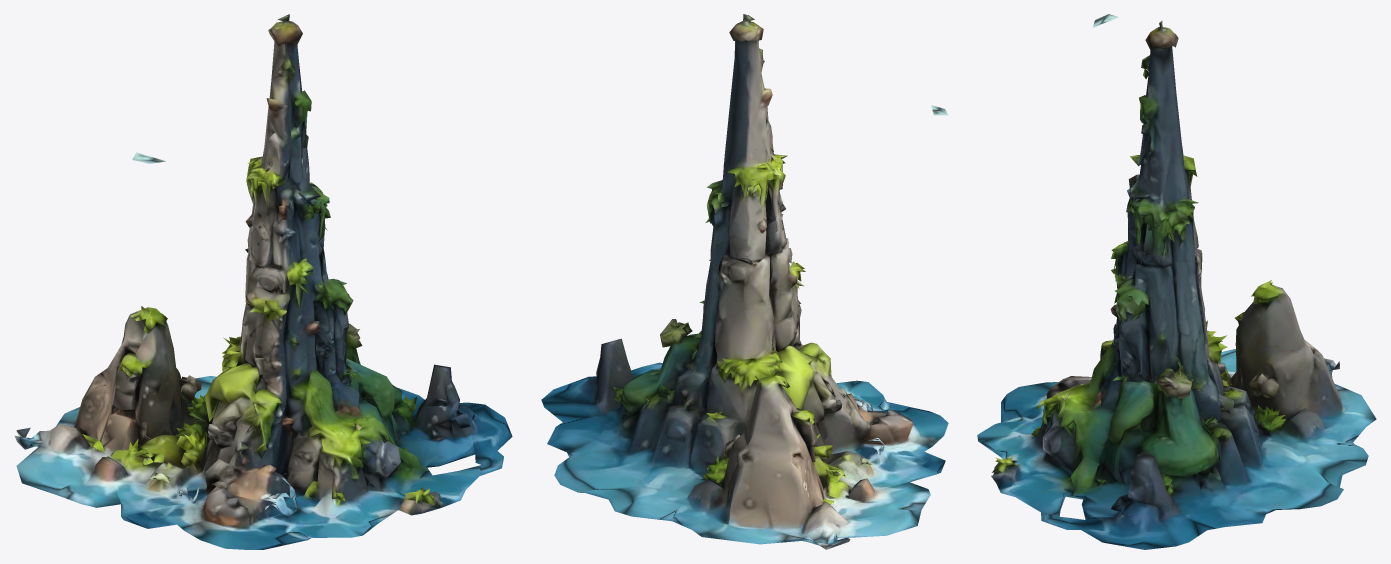
Rendered from seaspire.glb.
The picture shows the model from 3 angles, left to right: view 1: azimuth 30°, elevation 25°; view 2: azimuth 150°, elevation 25°; view 3: azimuth 270°, elevation 25°; orthographic projection. The views are drawn at different scales.
Parts seen in each view (by area): view 1: tripo_node_e98159dd-5e49-4b6b-b0fd-087c5b39dd4f; view 2: tripo_node_e98159dd-5e49-4b6b-b0fd-087c5b39dd4f; view 3: tripo_node_e98159dd-5e49-4b6b-b0fd-087c5b39dd4f.
Boxes of the visible parts, x1,y1,x2,y2 form: tripo_node_e98159dd-5e49-4b6b-b0fd-087c5b39dd4f: (14, 14, 512, 549); tripo_node_e98159dd-5e49-4b6b-b0fd-087c5b39dd4f: (541, 14, 948, 549); tripo_node_e98159dd-5e49-4b6b-b0fd-087c5b39dd4f: (977, 14, 1376, 549).
Size of the model in its own units: 0.9857 by 0.9819 by 0.824.
Materials: 1 (1 with a texture image).
